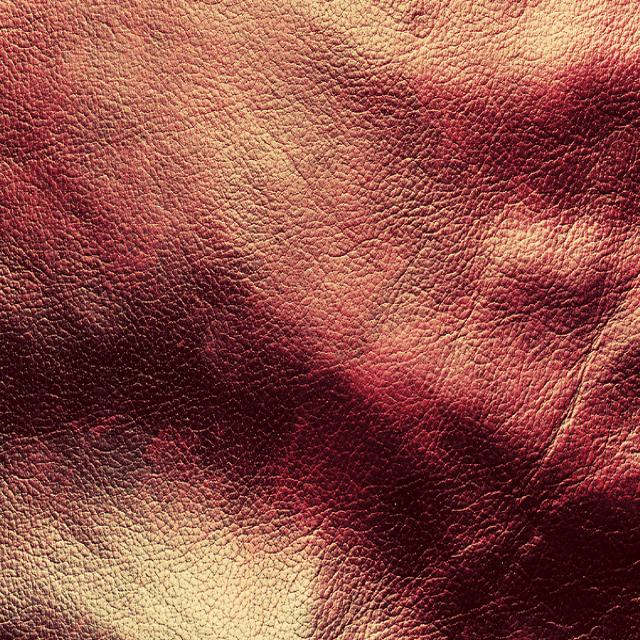Crease: (117, 160, 339, 380), (480, 210, 632, 340)
